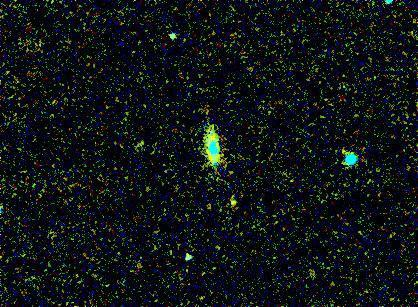star: (220, 185, 250, 215)
